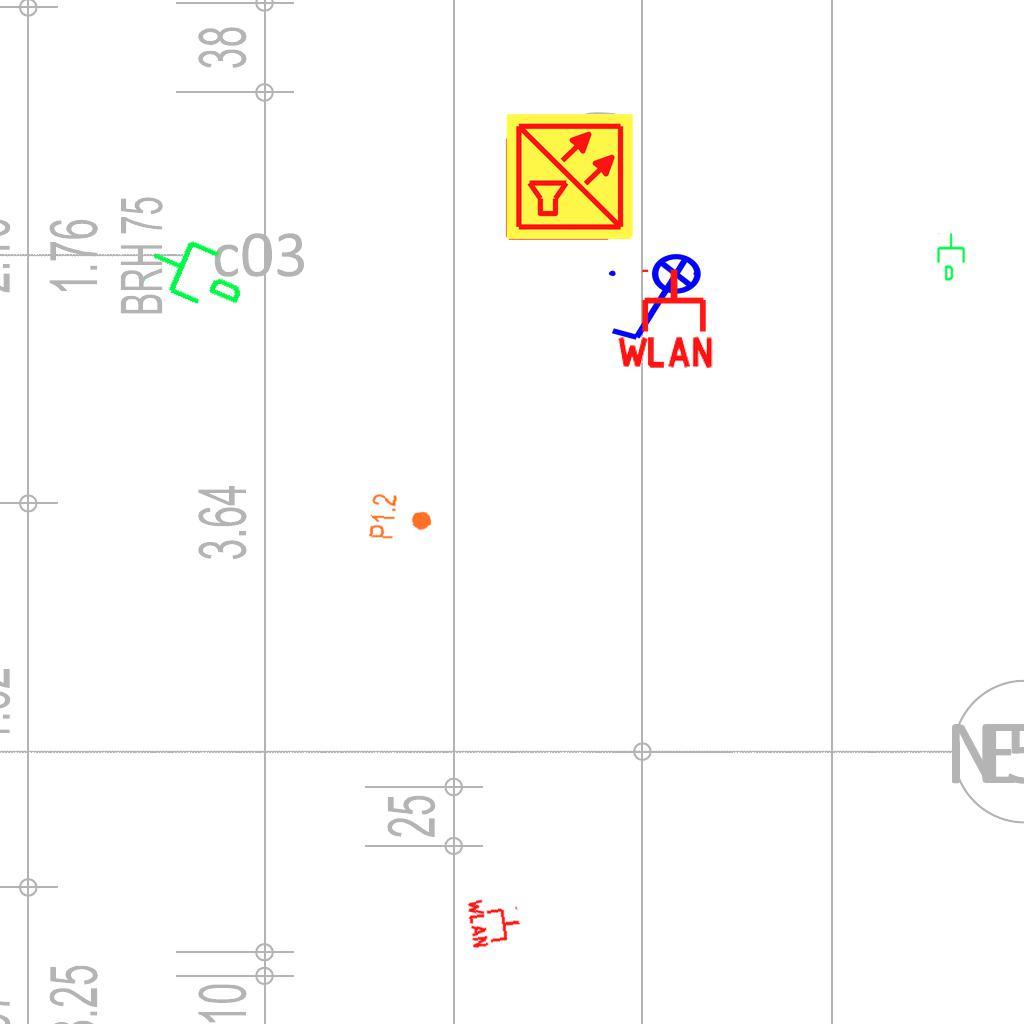Ausschalter_beleuchtet: (603, 252, 715, 348)
Datenanschluss_einfach: (138, 220, 259, 324), (935, 232, 969, 282)
Downlight_LED_Einbauleuchten_Flur: (367, 492, 435, 544)
OKW_Multisensormelder_(Kombination_optischer_Rauch-Kahlenmonoxid_Waerme-Melder): (504, 111, 636, 243)
WLAN: (613, 265, 717, 370), (465, 891, 525, 951)
